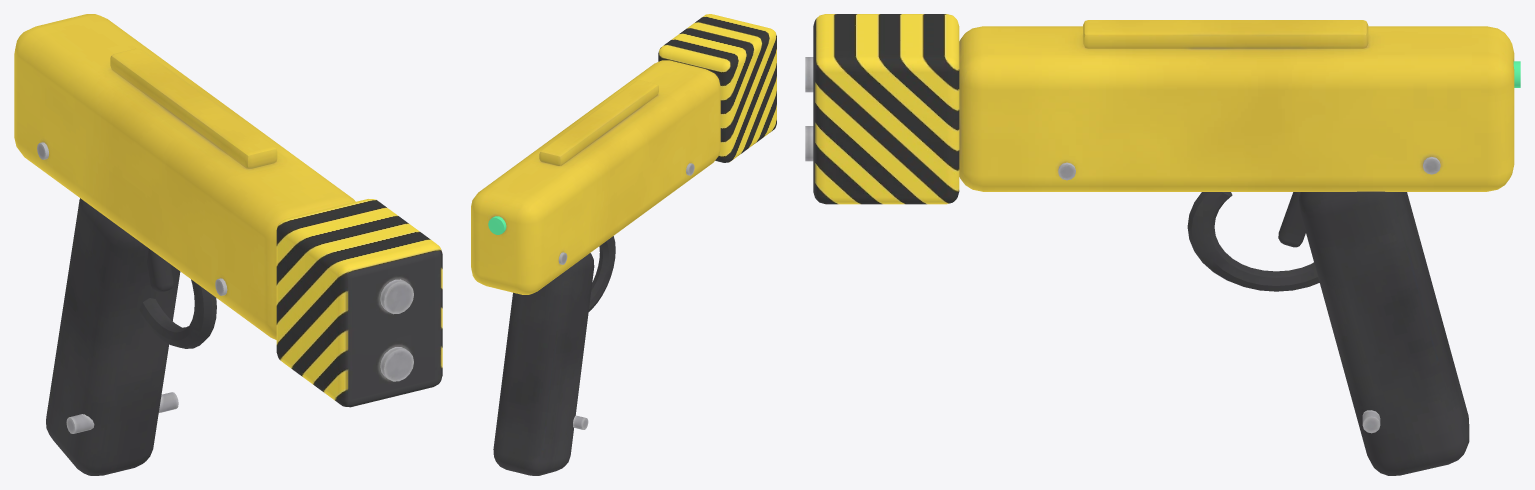
The model's file is taser.glb.
3 views of the same model, side by side, from view 1: azimuth 30°, elevation 25°; view 2: azimuth 150°, elevation 25°; view 3: azimuth 270°, elevation 25° (orthographic). The views are drawn at different scales.
Visible parts, largest first — view 1: taser; view 2: taser; view 3: taser.
Part boxes in pixels (x1=…): taser: x1=14, y1=14, x2=442, y2=475; taser: x1=471, y1=14, x2=776, y2=475; taser: x1=805, y1=14, x2=1520, y2=475.
Bounding box in the file's own units: 0.0386 × 0.153 × 0.2255.
Materials: 1 (1 with a texture image).
